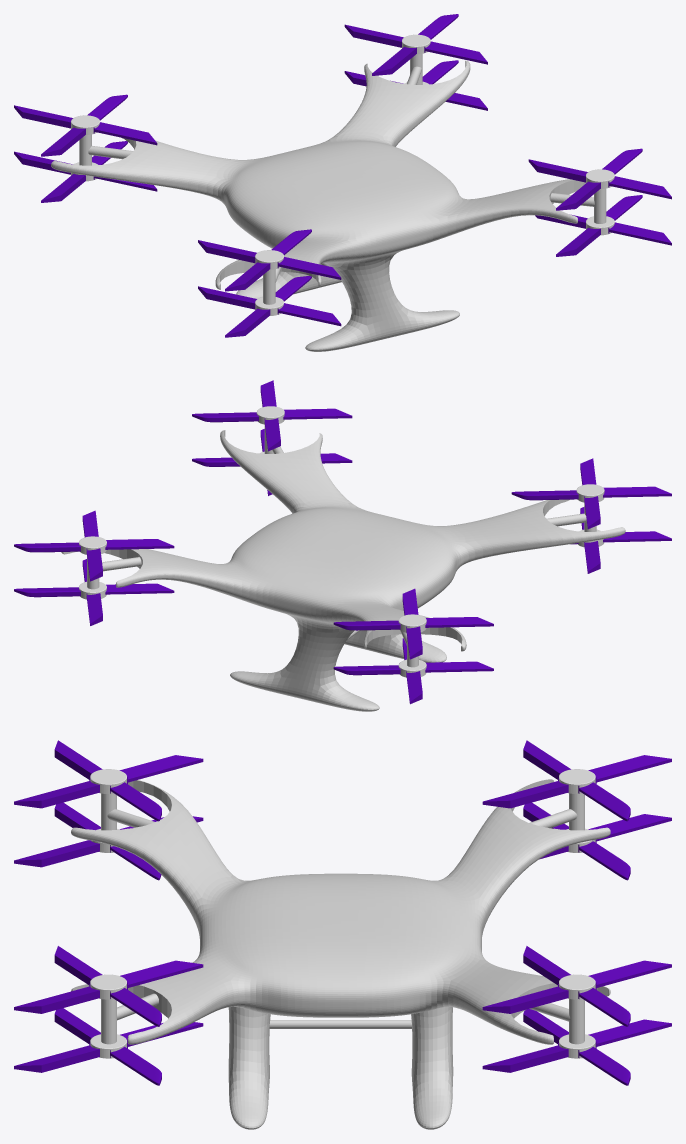
The model's file is droneModel.fbx.
3 views of the same model, one above another, from view 1: azimuth 30°, elevation 25°; view 2: azimuth 150°, elevation 25°; view 3: azimuth 270°, elevation 25° (orthographic). The views are drawn at different scales.
Parts seen in each view (by area): view 1: Cylinder, Cylinder.006, Cylinder.004, Cylinder.007, Cylinder.005; view 2: Cylinder, Cylinder.007, Cylinder.005, Cylinder.006, Cylinder.004; view 3: Cylinder, Cylinder.005, Cylinder.004, Cylinder.006, Cylinder.007.
Boxes of the visible parts, box(x1,y1,x2,y2) form: Cylinder: box(51, 60, 585, 351); Cylinder.006: box(198, 229, 341, 337); Cylinder.004: box(528, 148, 671, 256); Cylinder.007: box(14, 94, 157, 202); Cylinder.005: box(344, 14, 487, 110); Cylinder: box(61, 430, 625, 711); Cylinder.007: box(333, 588, 493, 704); Cylinder.005: box(14, 510, 174, 625); Cylinder.006: box(511, 458, 671, 573); Cylinder.004: box(192, 380, 352, 495); Cylinder: box(71, 779, 610, 1129); Cylinder.005: box(482, 946, 671, 1085); Cylinder.004: box(14, 946, 203, 1085); Cylinder.006: box(14, 740, 203, 880); Cylinder.007: box(482, 740, 671, 880).
Size of the model in its own units: 1064 by 363 by 1042.
